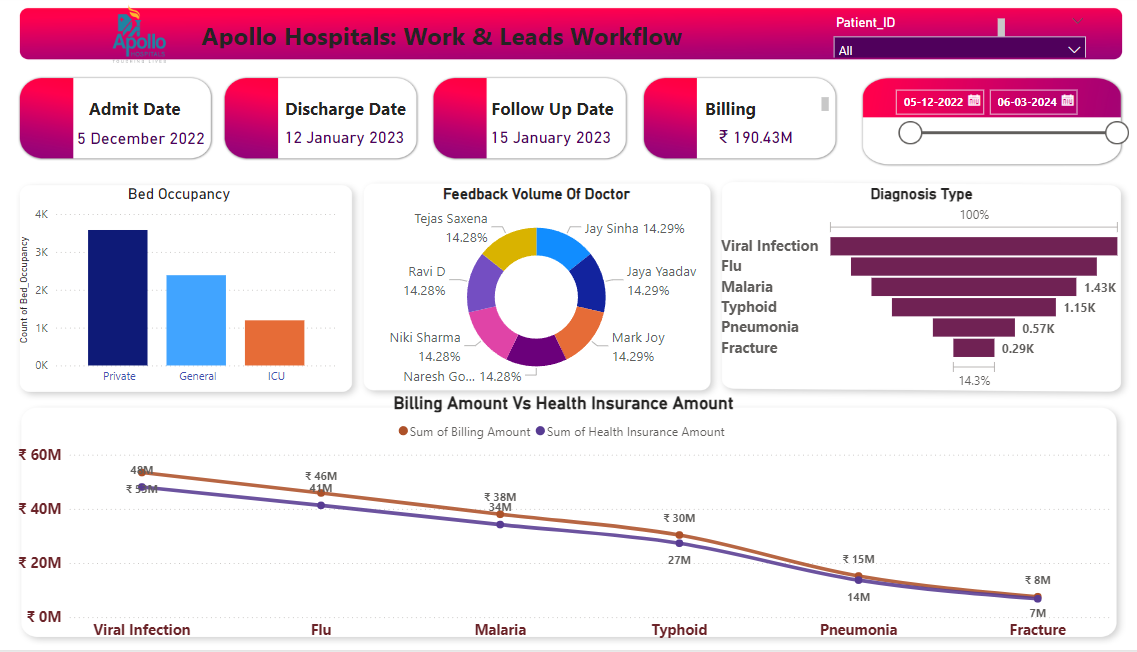

This screenshot's page, from the dashboard's own definition file:
{"tool":"powerbi","page":{"name":"Page 1","canvas":[1280,720],"ordinal":0},"visuals":[{"type":"image","box":[0,7.2,331.9,73.9],"z":0},{"type":"textbox","box":[229.2,22,891.9,42.5],"z":1000},{"type":"slicer","fields":{"Values":["Sheet1.Patient_ID"]},"box":[917.4,17.4,297.1,52.2],"z":2000},{"type":"card","fields":{"Values":["Sheet1.Admit_Date"]},"box":[72.5,117.4,189.9,81.2],"z":3000},{"type":"textbox","box":[106.2,108.6,123.5,40.7],"z":4000},{"type":"textbox","box":[321,108.6,165.4,35.8],"z":5000},{"type":"card","fields":{"Values":["Sheet1.Discharge_Date"]},"box":[296.3,117.3,190.1,81.5],"z":6000},{"type":"textbox","box":[546.9,108.6,165.4,35.8],"z":7000},{"type":"card","fields":{"Values":["Sheet1.Followup Date"]},"box":[522.2,117.3,190.1,81.5],"z":8000},{"type":"textbox","box":[782.7,108.6,145.7,35.8],"z":9000},{"type":"card","fields":{"Values":["Sheet1.Billing Amount"]},"box":[748.1,117.3,190.1,81.5],"z":10000},{"type":"slicer","fields":{"Values":["Sheet1.Admit_Date"]},"box":[983.8,94.1,276.5,147.1],"z":11000},{"type":"columnChart","title":"Bed Occupancy","fields":{"Category":["Sheet1.Bed_Occupancy"],"Y":["Sheet1.Bed_Occupancy"]},"box":[29.4,208.8,361.8,229.4],"z":12000},{"type":"donutChart","title":"Feedback Volume Of Doctor","fields":{"Category":["Sheet1.Doctor"],"Y":["Sheet1.Doctor"]},"box":[420.6,208.8,361.8,229.4],"z":13000},{"type":"funnel","title":"Diagnosis Type","fields":{"Category":["Sheet1.Diagnosis"],"Y":["Sheet1.Diagnosis"]},"box":[800,208.8,450,229.4],"z":14000},{"type":"lineChart","title":" Billing Amount Vs Health Insurance Amount","fields":{"Y":["Sheet1.Billing Amount","Sheet1.Health Insurance Amount"],"Category":["Sheet1.Diagnosis"]},"box":[27.9,438.2,1208.8,282.4],"z":15000}]}

Visuals, with their boxes in screenshot pixels (x1, y1, x2, y2), scaled from the page's 1280x720 canvas onto the 1137x652 screenshot:
image: 0,7,295,73
textbox: 204,20,996,58
slicer - Sheet1.Patient_ID: 815,16,1079,63
card - Sheet1.Admit_Date: 64,106,233,180
textbox: 94,98,204,135
textbox: 285,98,432,131
card - Sheet1.Discharge_Date: 263,106,432,180
textbox: 486,98,633,131
card - Sheet1.Followup Date: 464,106,633,180
textbox: 695,98,825,131
card - Sheet1.Billing Amount: 665,106,833,180
slicer - Sheet1.Admit_Date: 874,85,1120,218
"Bed Occupancy" columnChart: 26,189,347,397
"Feedback Volume Of Doctor" donutChart: 374,189,695,397
"Diagnosis Type" funnel: 711,189,1110,397
" Billing Amount Vs Health Insurance Amount" lineChart: 25,397,1099,651
